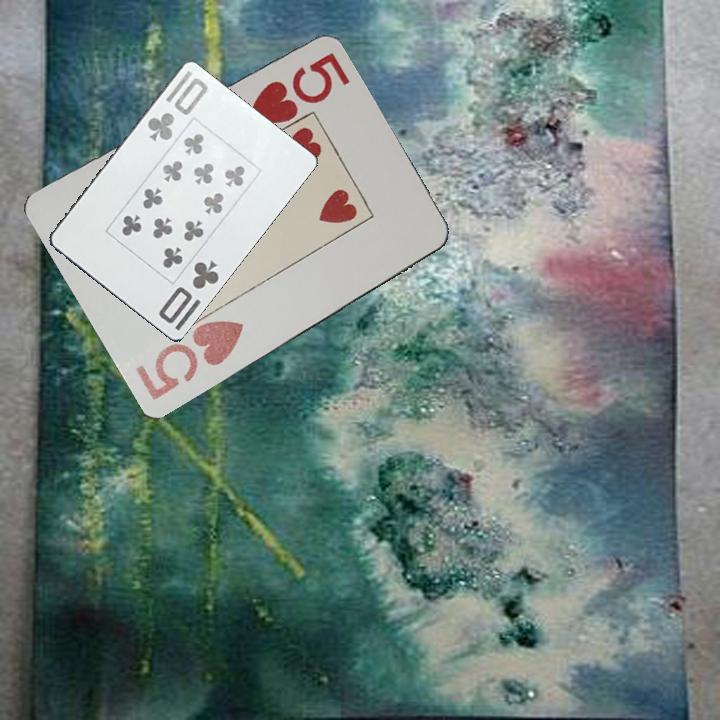5h: (131, 317, 247, 404), (244, 49, 349, 128)
Tc: (139, 68, 213, 145), (155, 257, 222, 327)
